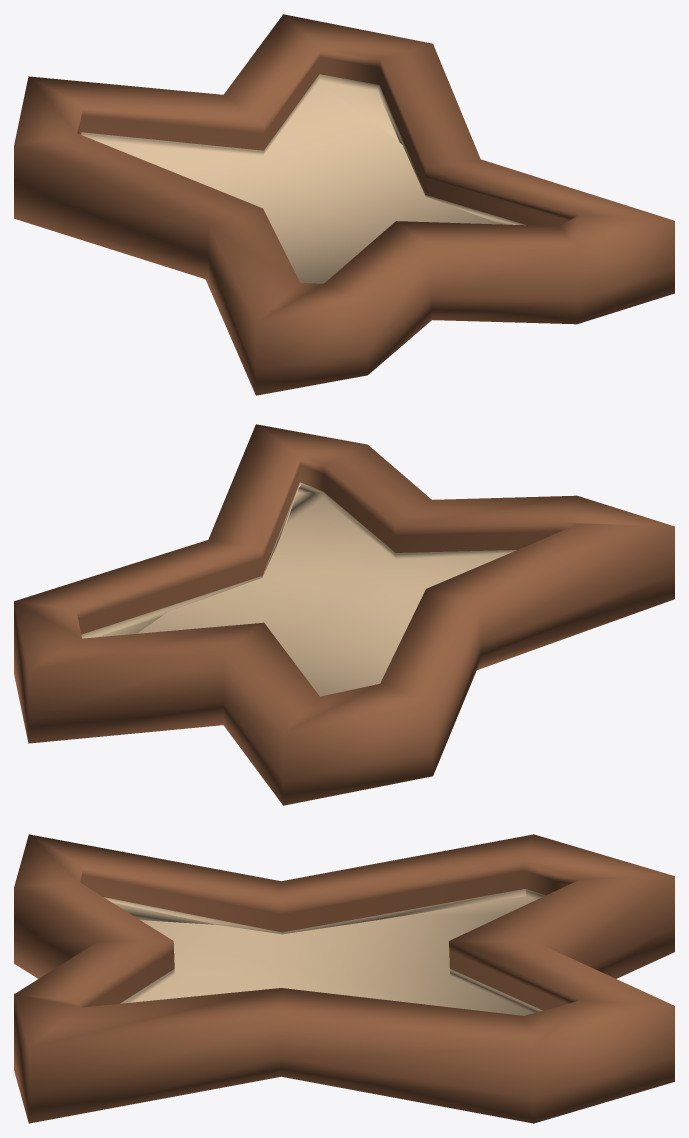
Rendered from toasts.glb.
3 renders of one model, top to bottom at view 1: azimuth 30°, elevation 25°; view 2: azimuth 150°, elevation 25°; view 3: azimuth 270°, elevation 25°, orthographic. The views are drawn at different scales.
Visible parts, largest first — view 1: Plane.005; view 2: Plane.005; view 3: Plane.005.
Boxes of the visible parts, x1,y1,x2,y2 form: Plane.005: (14,14,674,395); Plane.005: (14,424,674,805); Plane.005: (14,834,674,1123).
Bounding box in the file's own units: 0.1299 × 0.0228 × 0.17.
